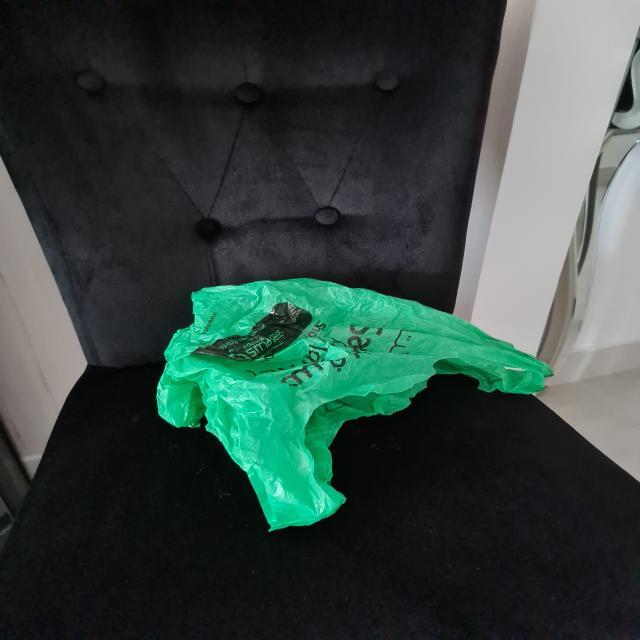plastic: (154, 278, 553, 530)
